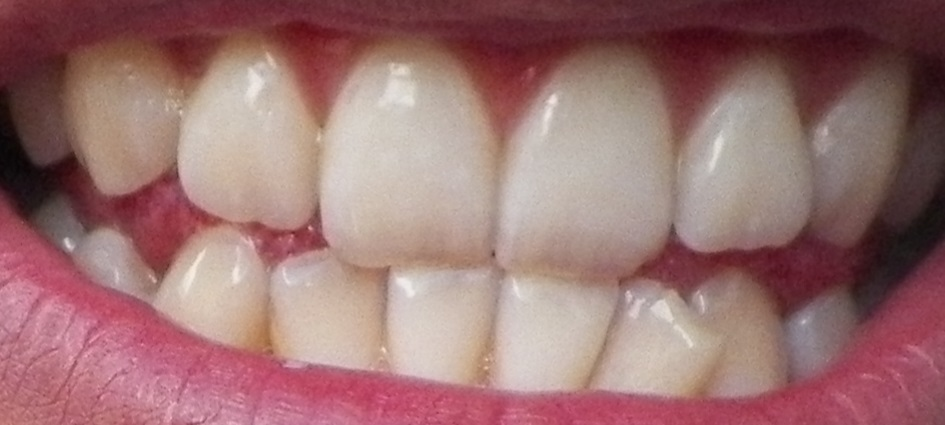boca: (23, 34, 929, 391)
